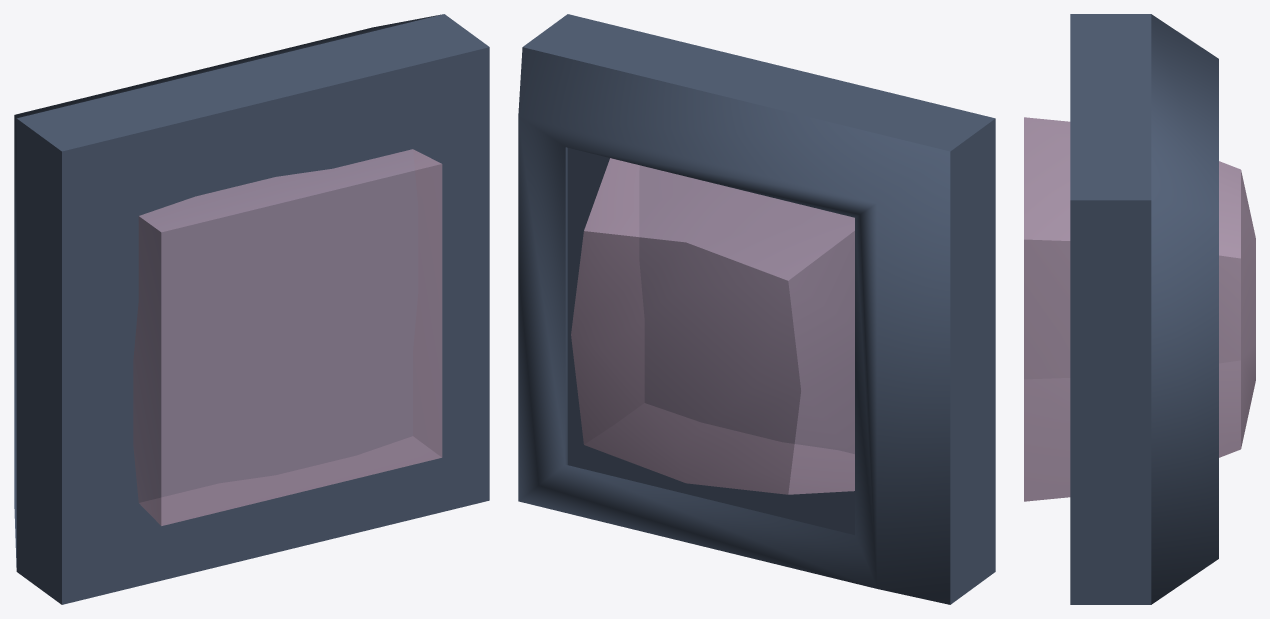
The model's file is button.fbx.
3 views of the same model, side by side, from view 1: azimuth 30°, elevation 25°; view 2: azimuth 150°, elevation 25°; view 3: azimuth 270°, elevation 25° (orthographic). The views are drawn at different scales.
Parts seen in each view (by area): view 1: pCube2, pCube1; view 2: pCube2, pCube1; view 3: pCube2, pCube1.
Boxes of the visible parts, x1,y1,x2,y2 form: pCube2: (14,14,489,604); pCube1: (133,149,442,525); pCube2: (518,14,995,604); pCube1: (571,158,854,494); pCube2: (1070,14,1218,604); pCube1: (1024,117,1255,501).
Bounding box in the file's own units: 3.05 × 3.09 × 1.6.
